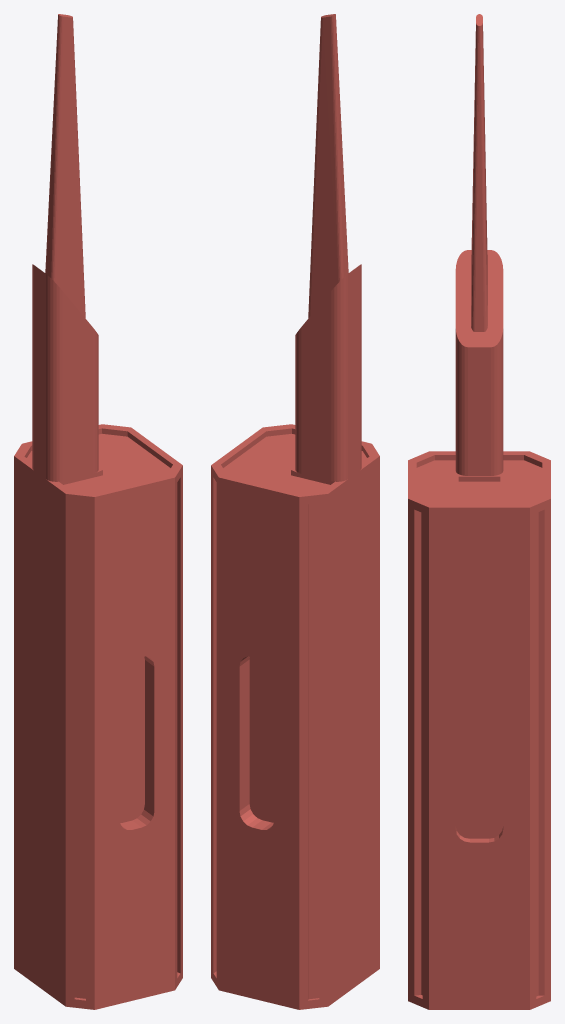
3 views of the same model, side by side, from view 1: azimuth 30°, elevation 25°; view 2: azimuth 150°, elevation 25°; view 3: azimuth 270°, elevation 25° (orthographic). The views are drawn at different scales.
Visible parts, largest first — view 1: Cube; view 2: Cube; view 3: Cube.
Part boxes in pixels (bbox=[...]): Cube: bbox=[14, 14, 182, 1009]; Cube: bbox=[211, 14, 379, 1009]; Cube: bbox=[408, 14, 550, 1009].
Bounding box in the file's own units: 2.37 × 2.55 × 18.69.
